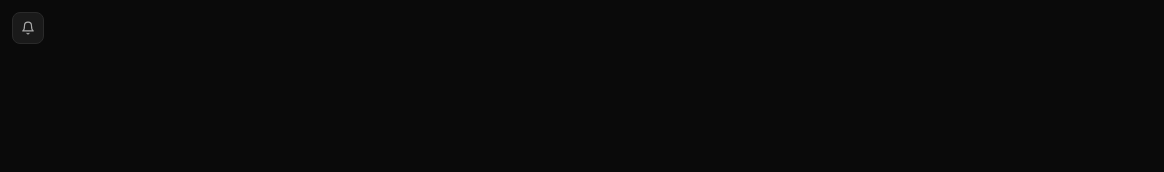
Test case: NotificationBell › shows the empty state when the list is empty
Click the button named "Centro notifiche". click: (28, 28)
box: [12,12,44,44]
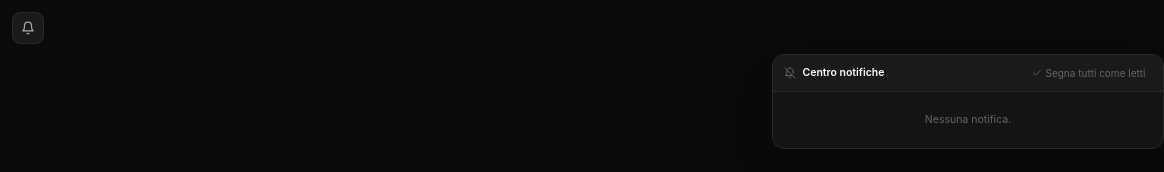
Check: the list item "Nessuna notifica." is shown, box [925,113,1011,126]
